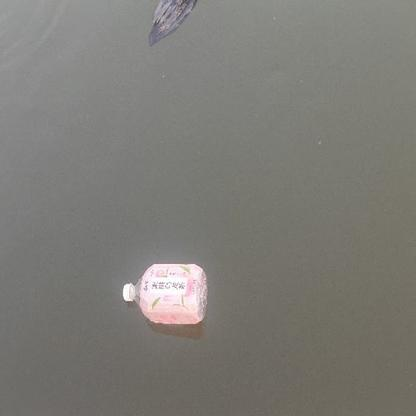plastic bag: (146, 1, 204, 44)
plastic bottle: (122, 264, 208, 325)
